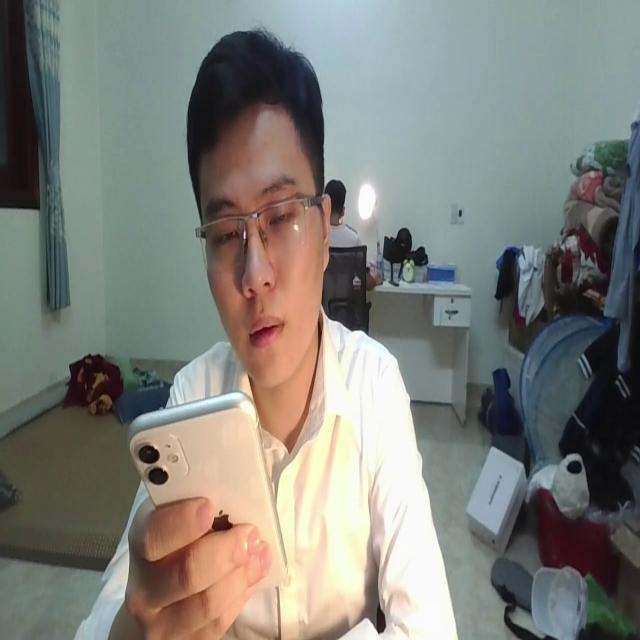phone: (125, 385, 289, 578)
student: (70, 24, 458, 640)
